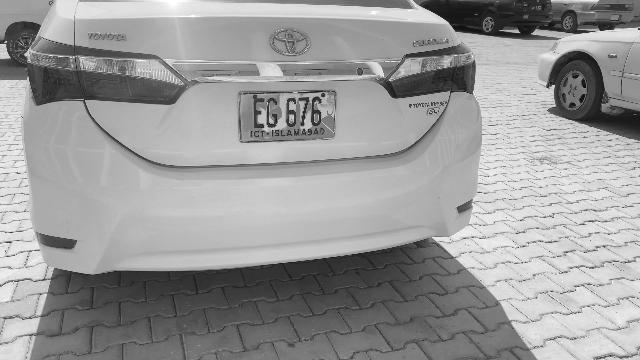Number: (249, 95, 331, 131)
